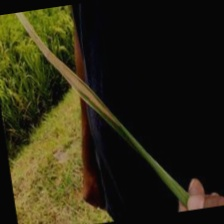Leaf_Blast: (30, 5, 110, 132)
